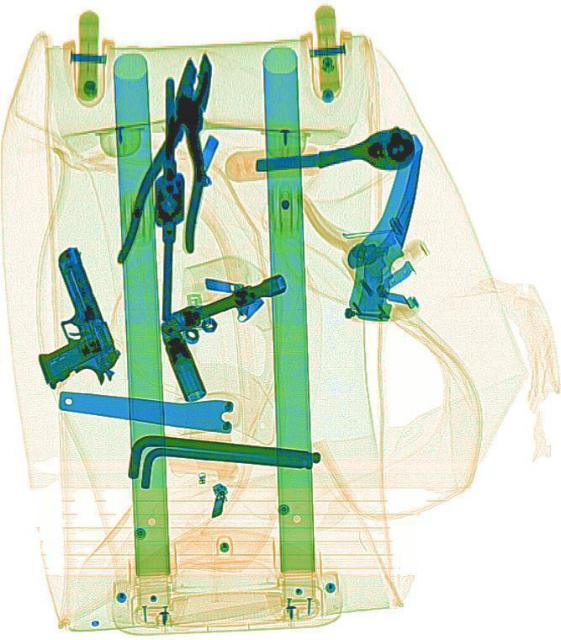Gun: (2, 241, 125, 403)
Pliers: (113, 45, 243, 282)
